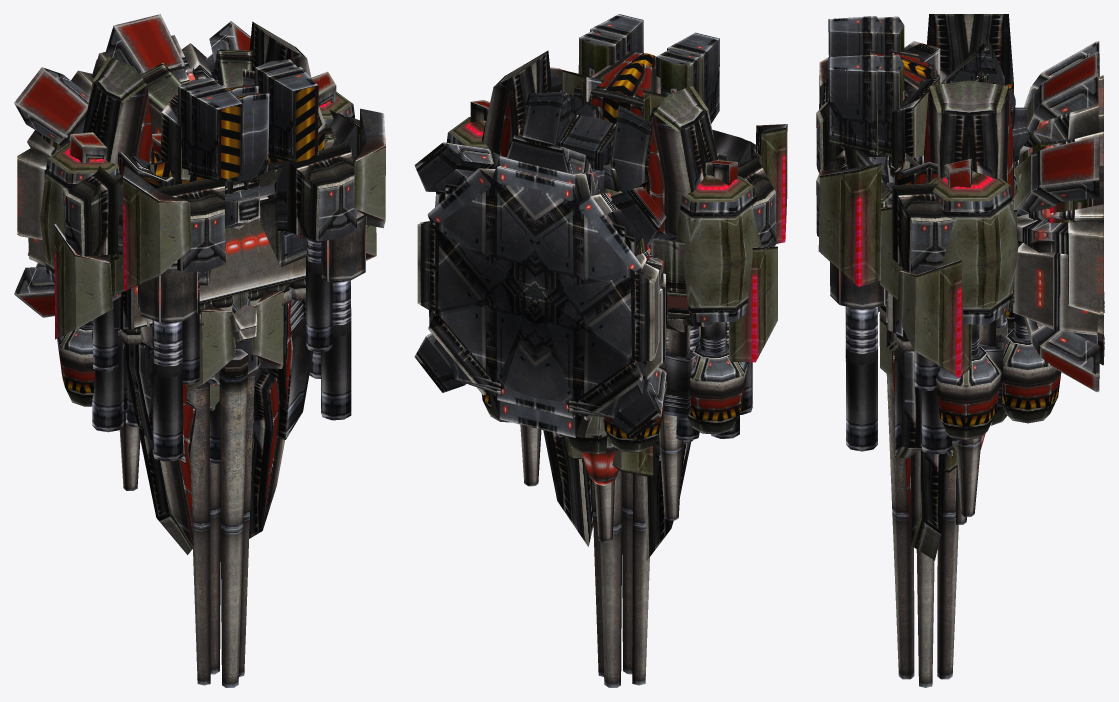
File: turrets-all-centered.obj
3 views of the same model, side by side, from view 1: azimuth 30°, elevation 25°; view 2: azimuth 150°, elevation 25°; view 3: azimuth 270°, elevation 25° (orthographic). The views are drawn at different scales.
Parts seen in each view (by area): view 1: turret_01, turret_02, turret_06, turret_08, turret_04, turret_09, turret_07, r_launcher_01, flame_thrower_01, r_launcher_03, turret_03, flame_thrower_02 (+1 smaller); view 2: turret_01, r_launcher_01, flame_thrower_01, turret_04, r_launcher_02, r_launcher_03, turret_02, flame_thrower_02, turret_06, turret_08, turret_12, turret_07 (+7 smaller); view 3: turret_02, turret_01, flame_thrower_01, turret_04, turret_06, flame_thrower_03, turret_07, turret_09, turret_08, turret_03, flame_thrower_02, r_launcher_03 (+4 smaller).
Part boxes in pixels (x1,y1,x2,y2): turret_01: (14, 21, 318, 687); turret_02: (15, 22, 385, 461); turret_06: (19, 35, 359, 384); turret_08: (19, 106, 325, 555); turret_04: (70, 21, 336, 490); turret_09: (14, 14, 351, 463); turret_07: (54, 124, 376, 432); r_launcher_01: (27, 142, 305, 325); flame_thrower_01: (34, 92, 355, 406); r_launcher_03: (17, 157, 260, 344); turret_03: (15, 22, 254, 463); flame_thrower_02: (27, 43, 219, 418); turret_01: (414, 14, 719, 687); r_launcher_01: (427, 170, 650, 420); flame_thrower_01: (435, 117, 761, 434); turret_04: (470, 50, 737, 520); r_launcher_02: (417, 166, 652, 417); r_launcher_03: (417, 168, 652, 418); turret_02: (443, 31, 787, 416); flame_thrower_02: (427, 164, 650, 485); turret_06: (420, 129, 776, 437); turret_08: (419, 152, 726, 560); turret_12: (445, 184, 695, 417); turret_07: (492, 246, 777, 438); turret_02: (818, 16, 1096, 451); turret_01: (828, 16, 1099, 687); flame_thrower_01: (928, 171, 1104, 440); turret_04: (924, 14, 1013, 516); turret_06: (816, 69, 1098, 390); flame_thrower_03: (1002, 160, 1098, 423); turret_07: (897, 259, 971, 454); turret_09: (880, 51, 1098, 458); turret_08: (889, 78, 1100, 560); turret_03: (891, 41, 1098, 391); flame_thrower_02: (980, 75, 1103, 449); r_launcher_03: (868, 157, 1103, 351).
Size of the model in its own units: 5.75 by 11.25 by 4.65.
Materials: 1 (1 with a texture image).
